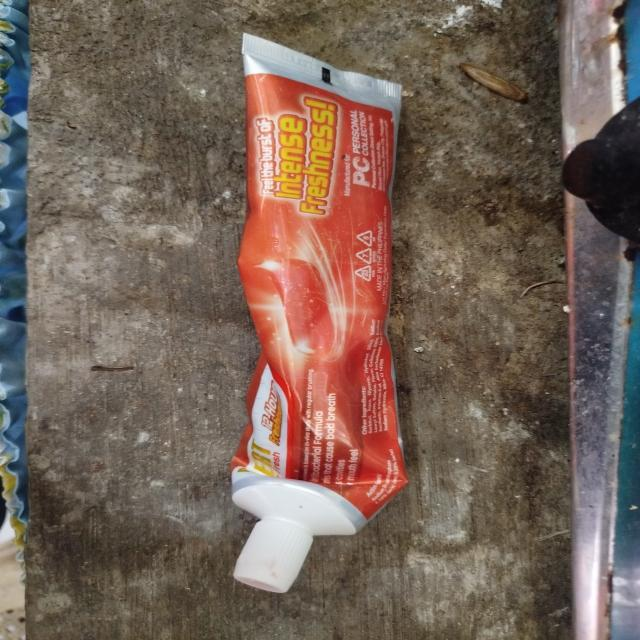residual: (192, 12, 445, 606)
